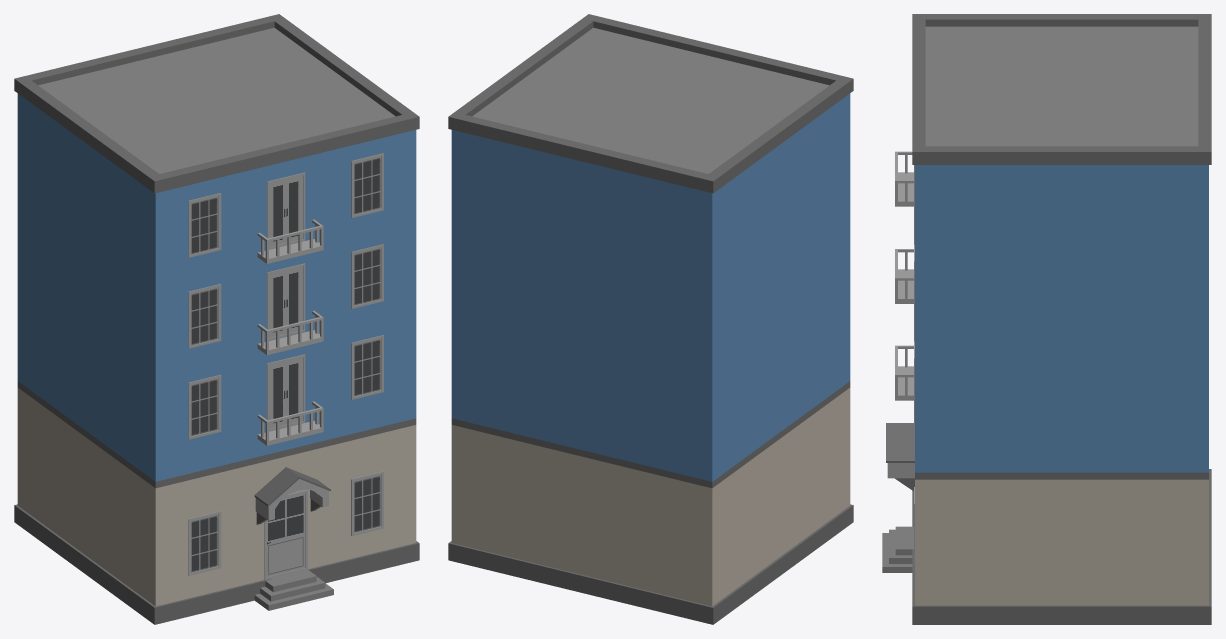
Rendered from spb-building03.glb.
3 views of the same model, side by side, from view 1: azimuth 30°, elevation 25°; view 2: azimuth 150°, elevation 25°; view 3: azimuth 270°, elevation 25° (orthographic). The views are drawn at different scales.
Visible parts, largest first — view 1: SPB_Building03; view 2: SPB_Building03; view 3: SPB_Building03.
Part boxes in pixels (x1,y1,x2,y2): SPB_Building03: (14, 14, 419, 624); SPB_Building03: (448, 14, 853, 624); SPB_Building03: (882, 14, 1211, 624).
Size of the model in its own units: 10.37 by 16.59 by 10.48.
1 material, 1 textured.
